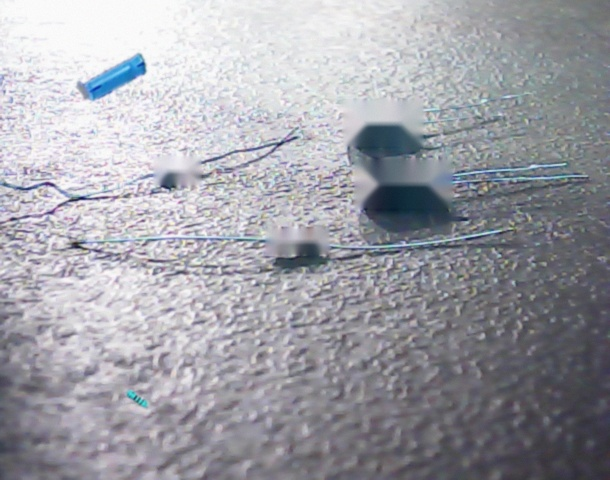capacitor: (78, 54, 147, 101)
resistor: (125, 389, 150, 409)
